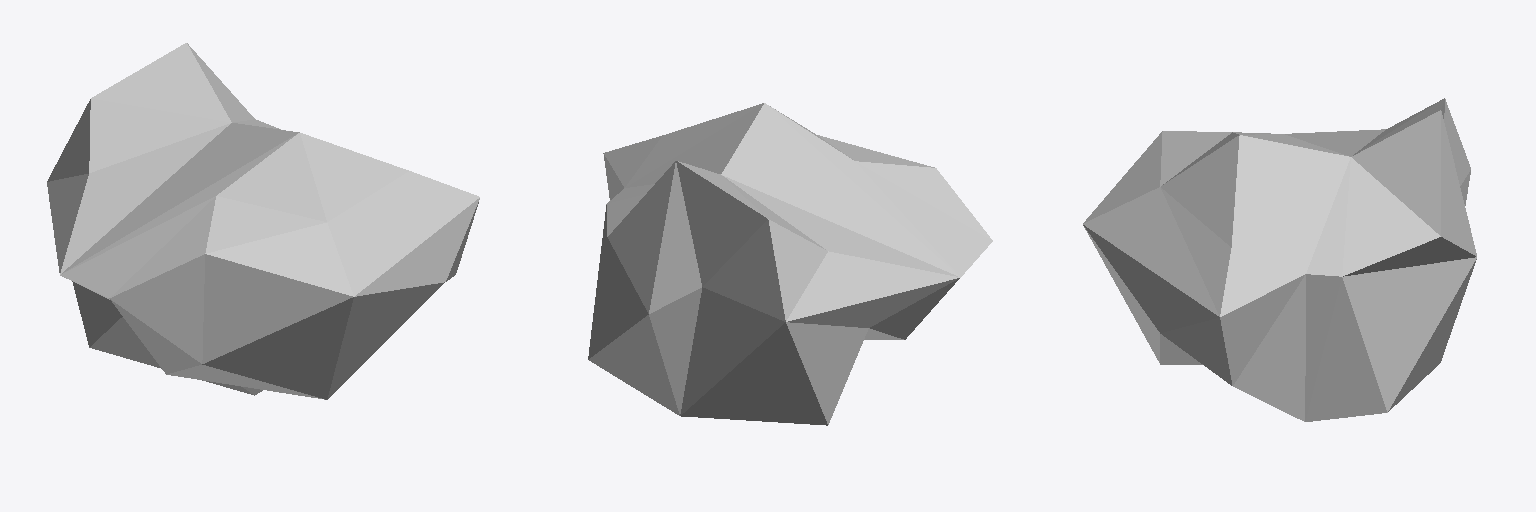
File: paperball1.obj
3 renders of one model, left to right at view 1: azimuth 30°, elevation 25°; view 2: azimuth 150°, elevation 25°; view 3: azimuth 270°, elevation 25°, orthographic.
Parts seen in each view (by area): view 1: Paperball_Cube; view 2: Paperball_Cube; view 3: Paperball_Cube.
Part boxes in pixels (left/top/right/bottom): Paperball_Cube: left=47, top=43, right=479, bottom=399; Paperball_Cube: left=588, top=103, right=992, bottom=425; Paperball_Cube: left=1083, top=98, right=1476, bottom=421.
Bounding box in the file's own units: 0.2154 × 0.1605 × 0.1893.